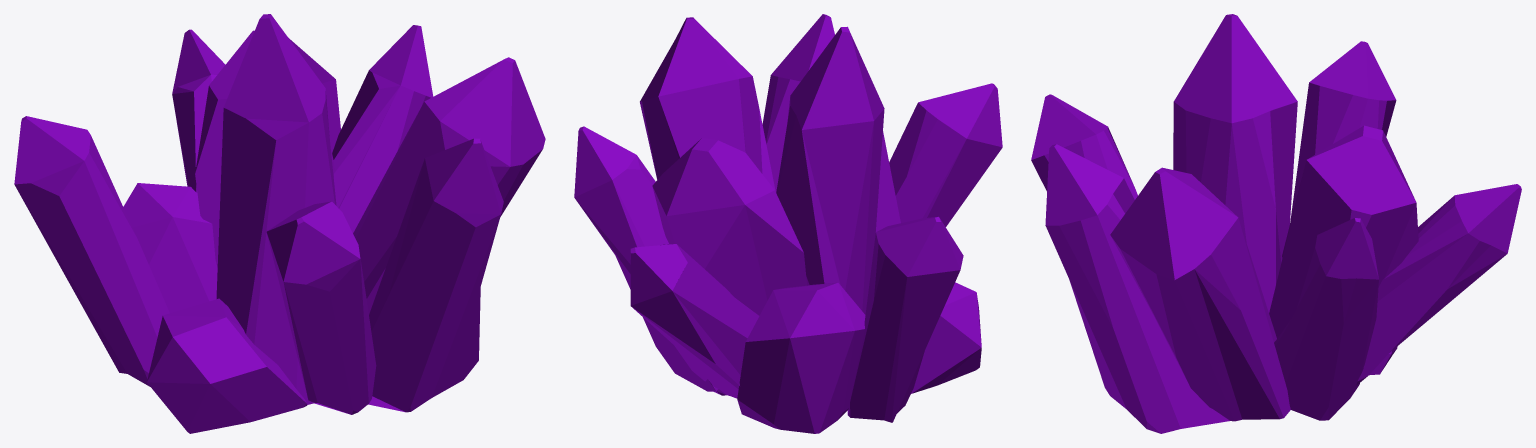
Rendered from cluster.fbx.
3 renders of one model, left to right at view 1: azimuth 30°, elevation 25°; view 2: azimuth 150°, elevation 25°; view 3: azimuth 270°, elevation 25°, orthographic. The views are drawn at different scales.
Parts seen in each view (by area): view 1: Cluster_1; view 2: Cluster_1; view 3: Cluster_1.
Boxes of the visible parts, x1,y1,x2,y2 form: Cluster_1: (14,14,545,433); Cluster_1: (574,14,1002,433); Cluster_1: (1031,14,1521,433).
Bounding box in the file's own units: 977 × 787 × 1014.
